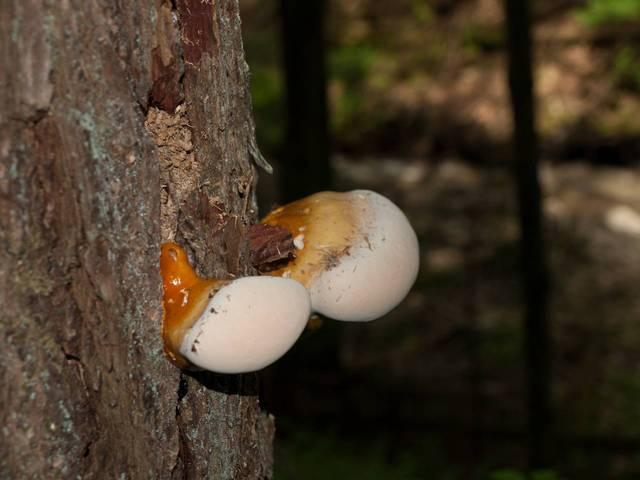poisonous_mushroom: (158, 187, 421, 376)
